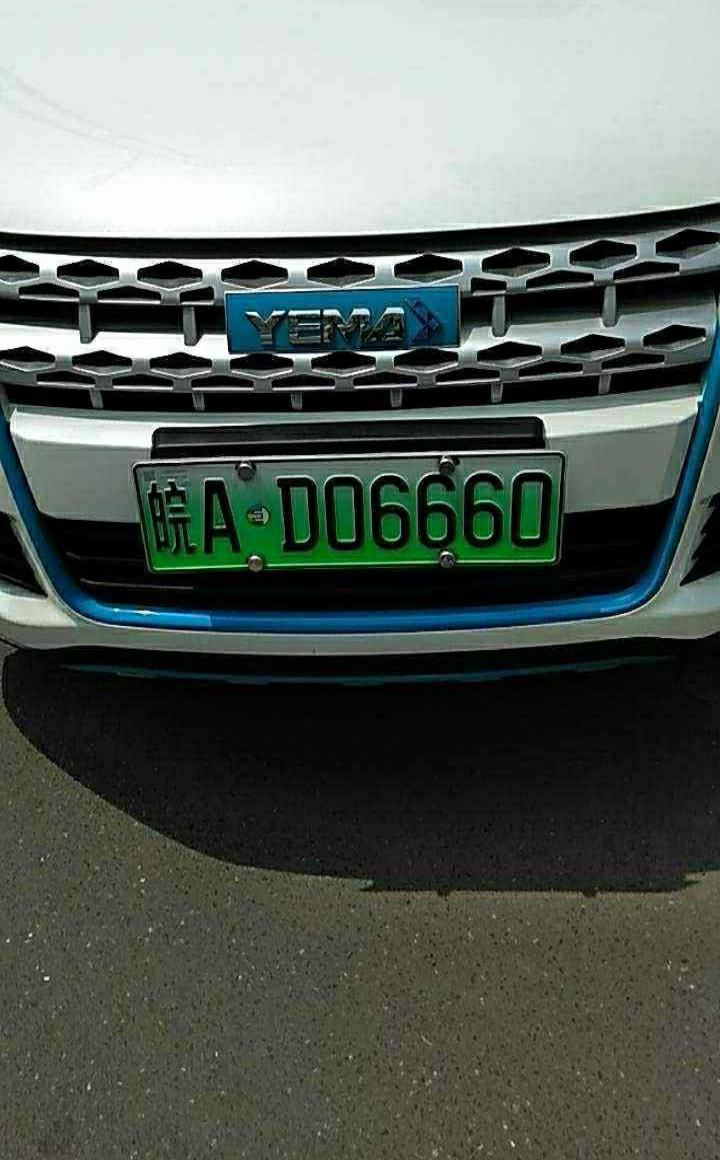car_id: (130, 453, 561, 571)
